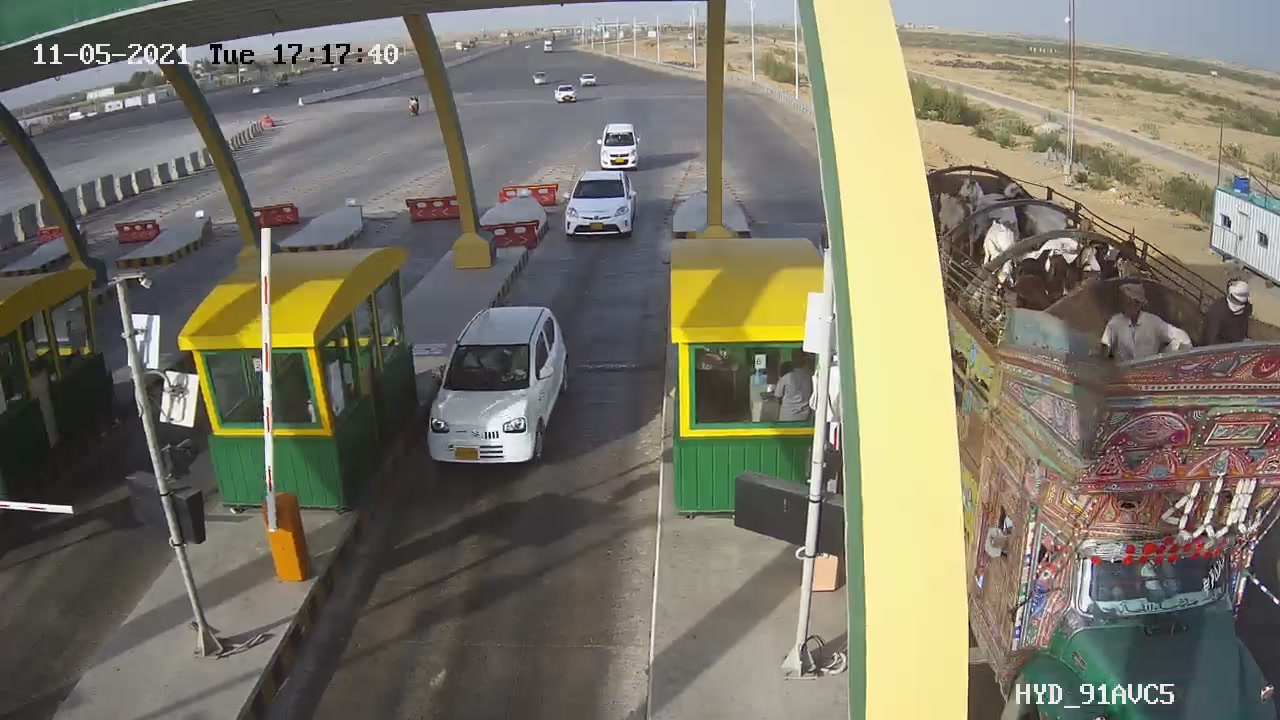F1: (409, 295, 586, 486)
